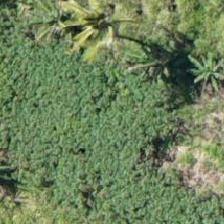coconut_tree: (60, 0, 150, 69)
